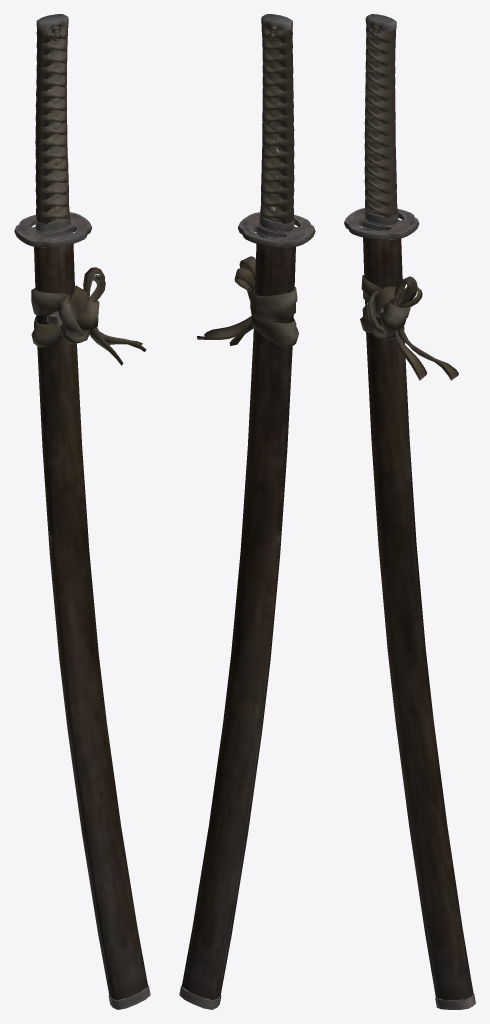
The model's file is weapon-wp_a_0550.glb.
3 views of the same model, side by side, from view 1: azimuth 30°, elevation 25°; view 2: azimuth 150°, elevation 25°; view 3: azimuth 330°, elevation 25° (orthographic). The views are drawn at different scales.
Visible parts, largest first — view 1: wp_a_0550_mesh; view 2: wp_a_0550_mesh; view 3: wp_a_0550_mesh.
Part boxes in pixels (x1,y1,x2,y2): wp_a_0550_mesh: (14,14,150,1009); wp_a_0550_mesh: (179,14,315,1009); wp_a_0550_mesh: (344,14,475,1009).
Bounding box in the file's own units: 0.191 × 1.43 × 0.0903.
2 materials, 2 textured.
